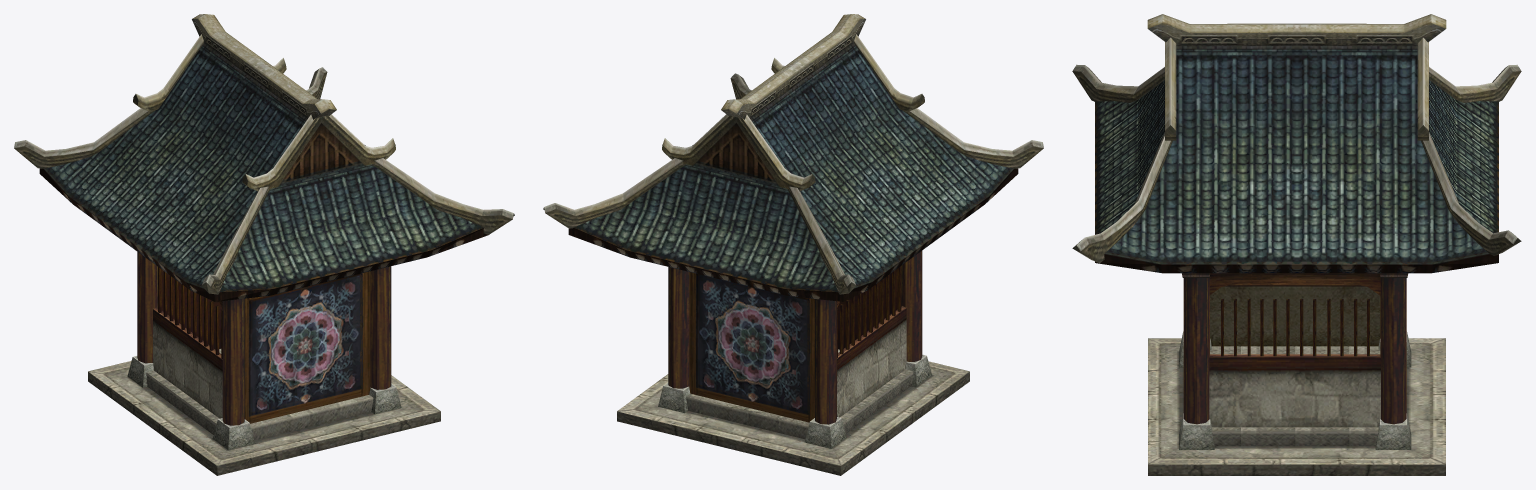
File: gls_004-house2.fbx
The picture shows the model from 3 angles, left to right: view 1: azimuth 30°, elevation 25°; view 2: azimuth 150°, elevation 25°; view 3: azimuth 270°, elevation 25°; orthographic projection. The views are drawn at different scales.
Visible parts, largest first — view 1: Object02; view 2: Object02; view 3: Object02.
Part boxes in pixels (<box>): Object02: <box>14,14,514,475</box>; Object02: <box>543,14,1043,475</box>; Object02: <box>1072,14,1521,475</box>.
Bounding box in the file's own units: 5.23 × 5.5 × 5.63.
